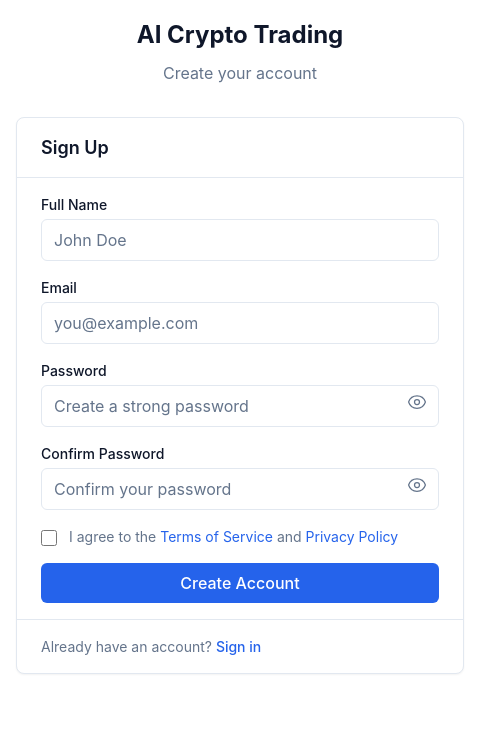
it: Signup Page › Form Validation › should show error when email is empty
Type "Test User" into the field labelled "Full Name" at (240, 240), box [41,218,439,260]
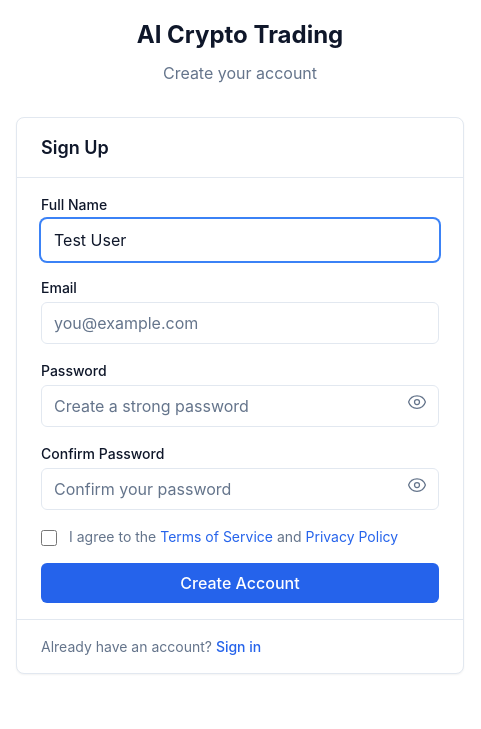
Click the button "Create Account" at (240, 582), box [41,562,439,602]
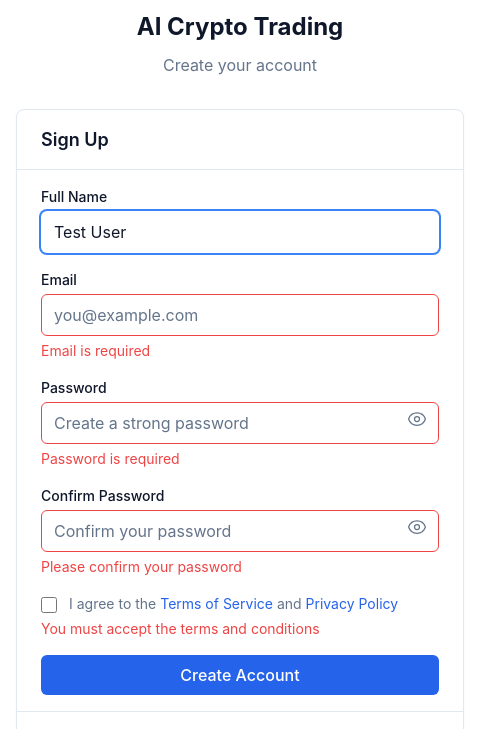
expect the text "Email is required" is shown: met, box [41,342,150,359]
